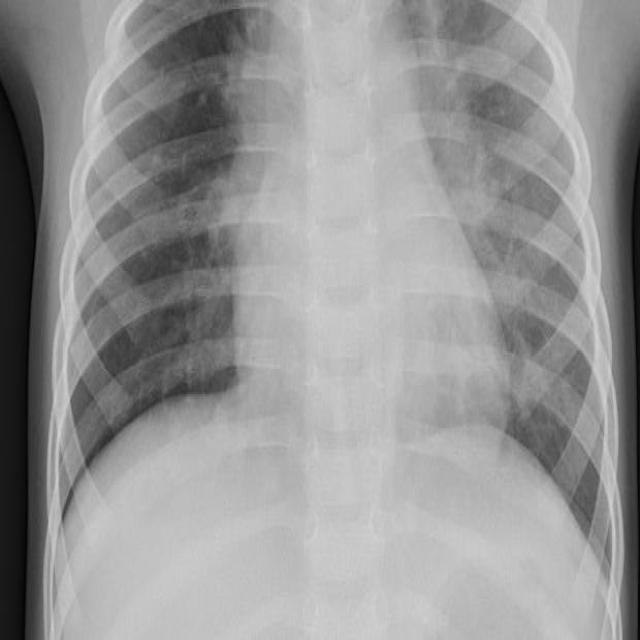high-pneumonia: (400, 2, 530, 253), (196, 10, 270, 231)
low-pneumonia: (493, 252, 570, 430), (183, 232, 240, 391)
